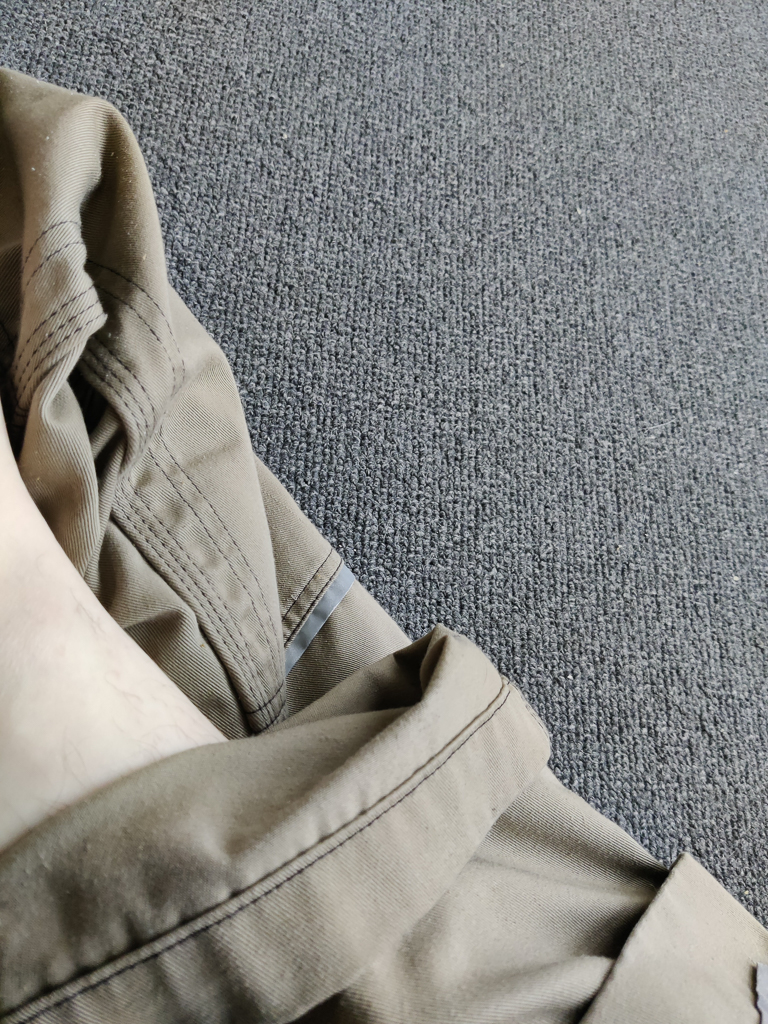Humanoid: (0, 51, 768, 1024)
